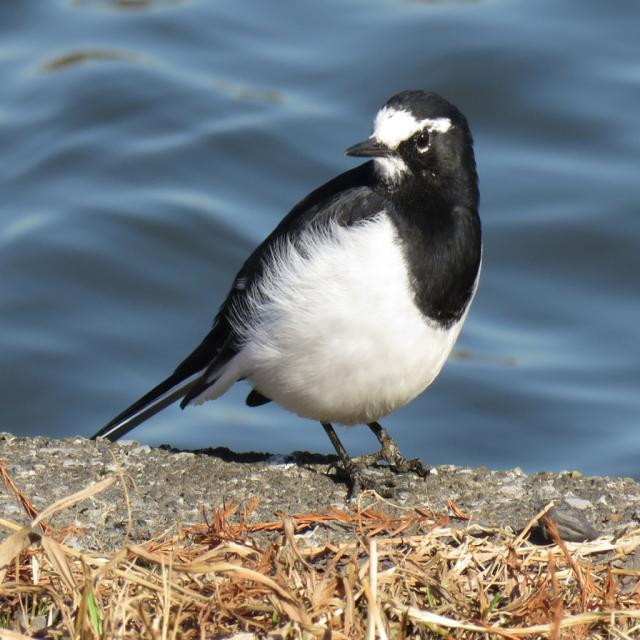bird: (86, 91, 508, 470), (276, 520, 379, 640)
